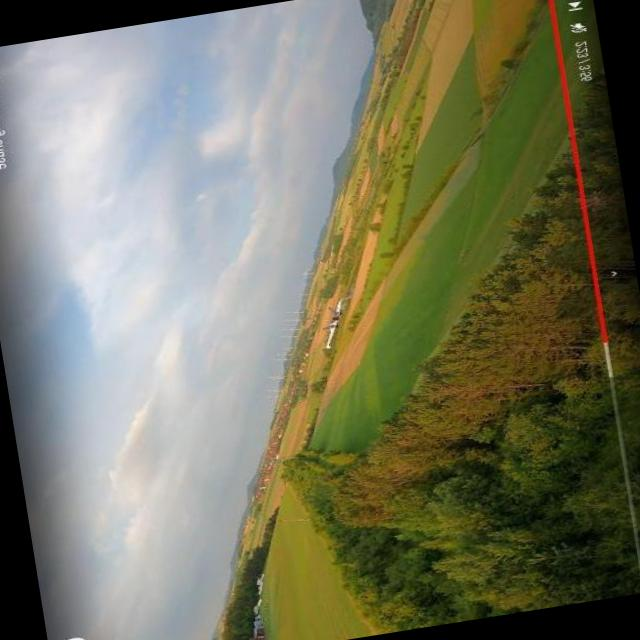UAV: (308, 284, 356, 366)
